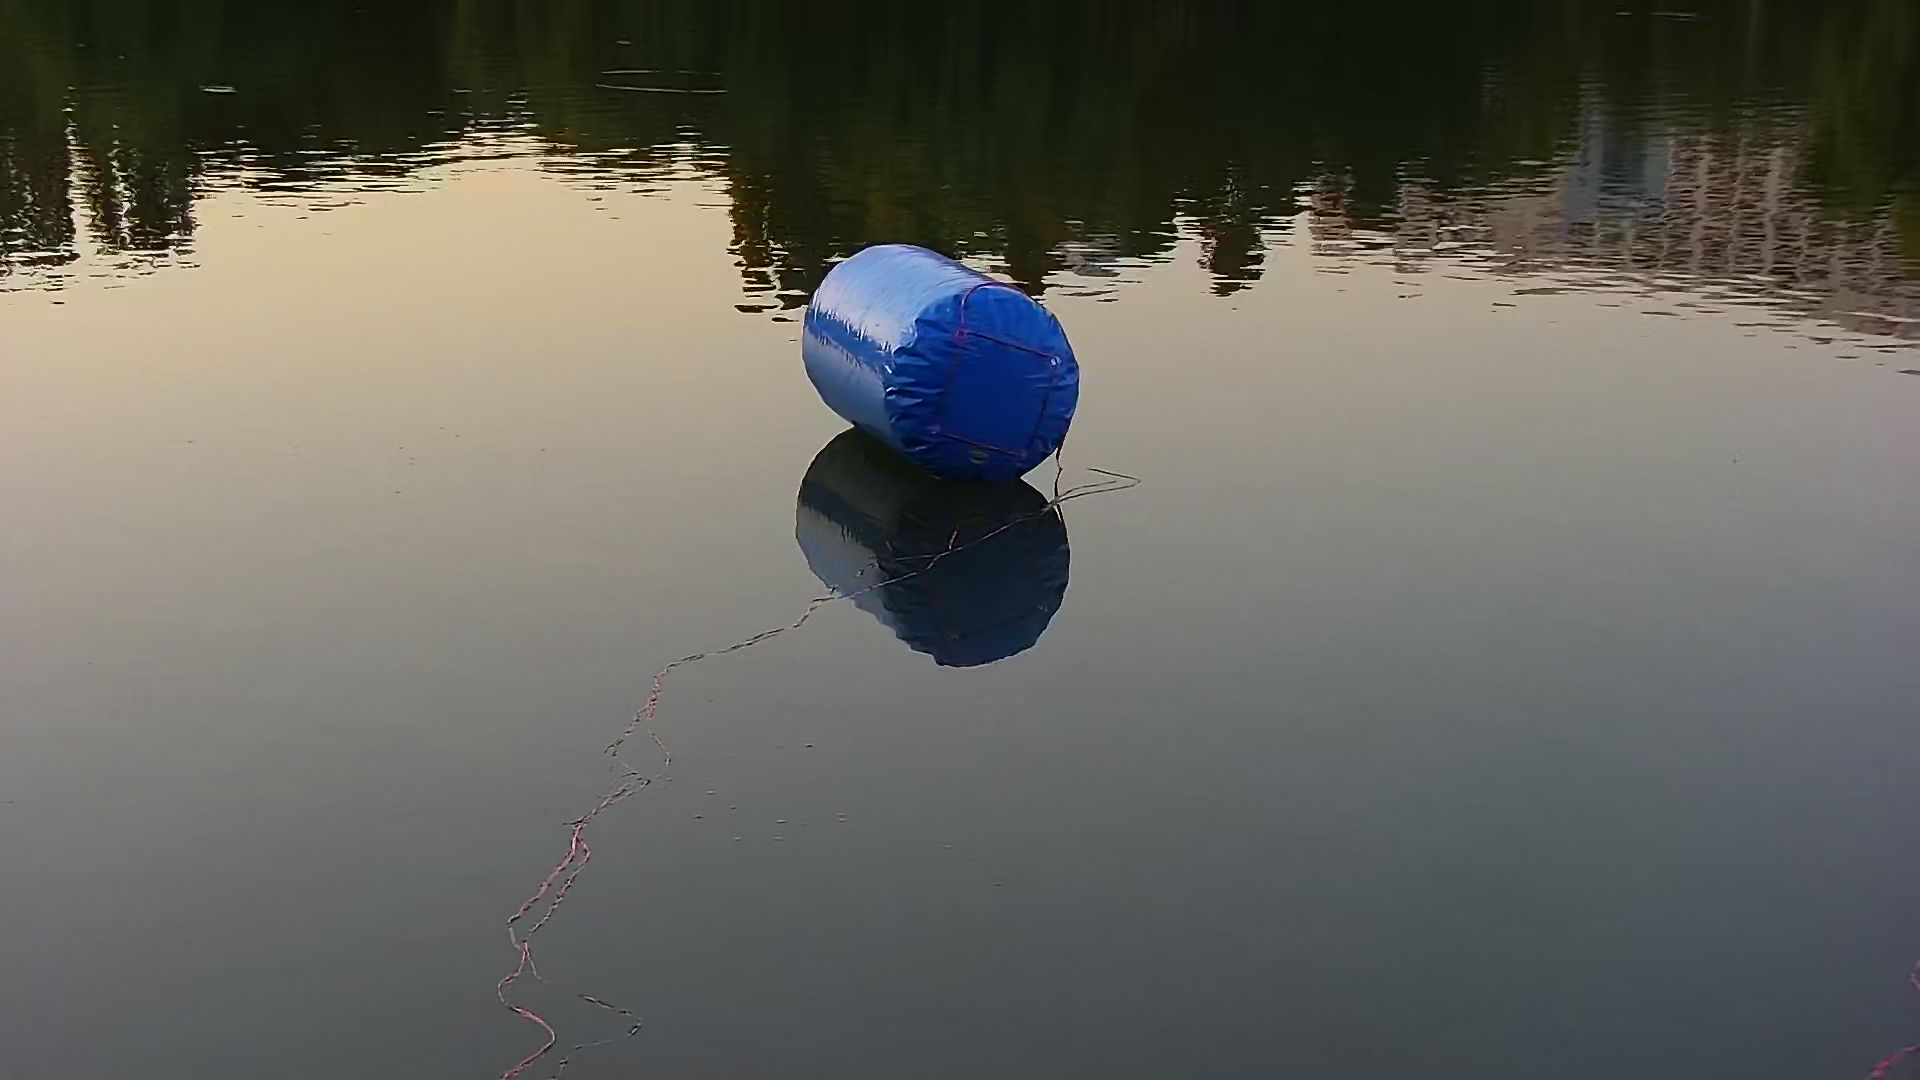rubbish: (793, 235, 1080, 492)
